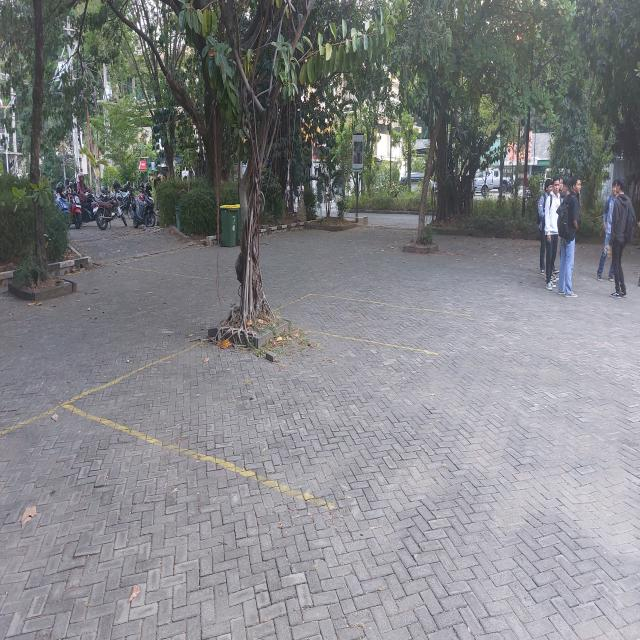empty: (61, 340, 419, 510)
